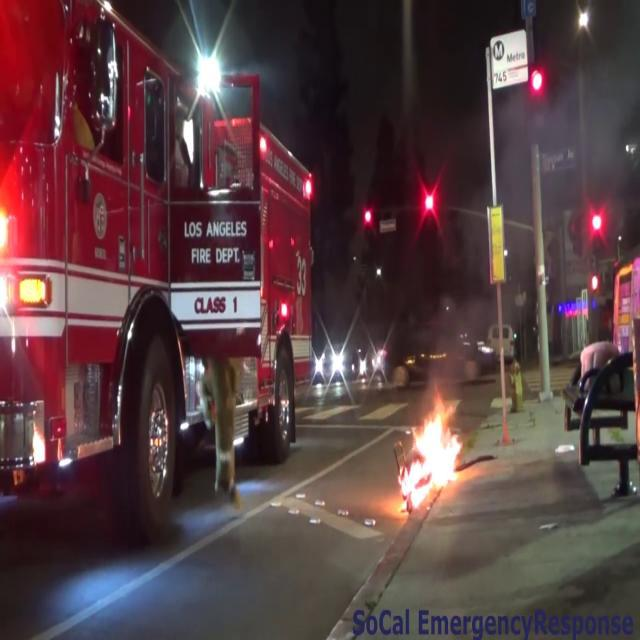Fire: (390, 396, 468, 512)
Smoke: (458, 20, 638, 322)
